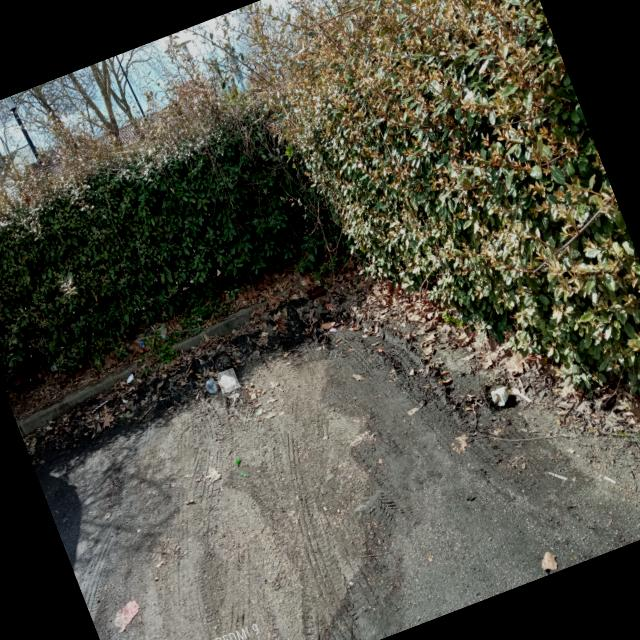Drink can: (307, 285, 327, 300)
Other container: (481, 374, 518, 414), (216, 368, 240, 393), (201, 374, 221, 397), (197, 379, 200, 382), (250, 376, 254, 378)
